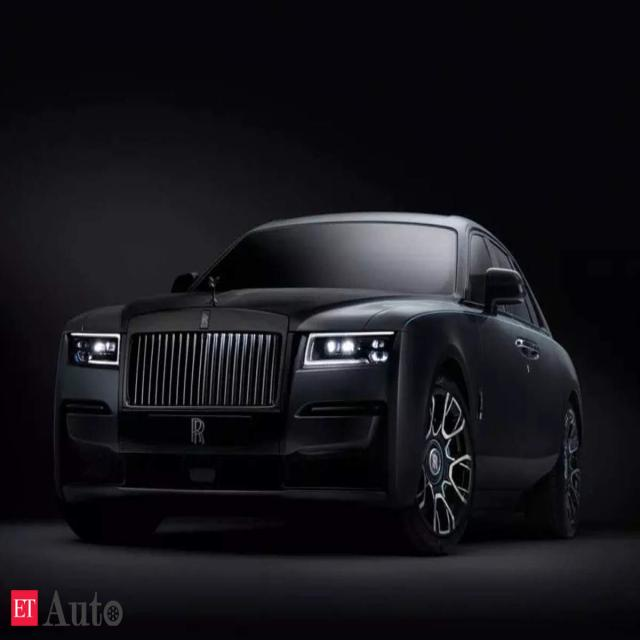Car: (47, 204, 593, 553)
